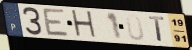0: (125, 13, 146, 42)
1: (105, 12, 124, 42)
3: (21, 5, 43, 36)
E: (41, 7, 71, 38)
H: (70, 8, 99, 40)
T: (147, 15, 167, 44)
